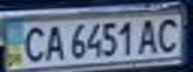1: (115, 18, 139, 56)
4: (84, 20, 106, 58)
5: (100, 19, 121, 57)
6: (66, 20, 87, 60)
A: (39, 23, 69, 62), (136, 16, 163, 55)
C: (15, 24, 51, 64), (151, 16, 187, 53)
